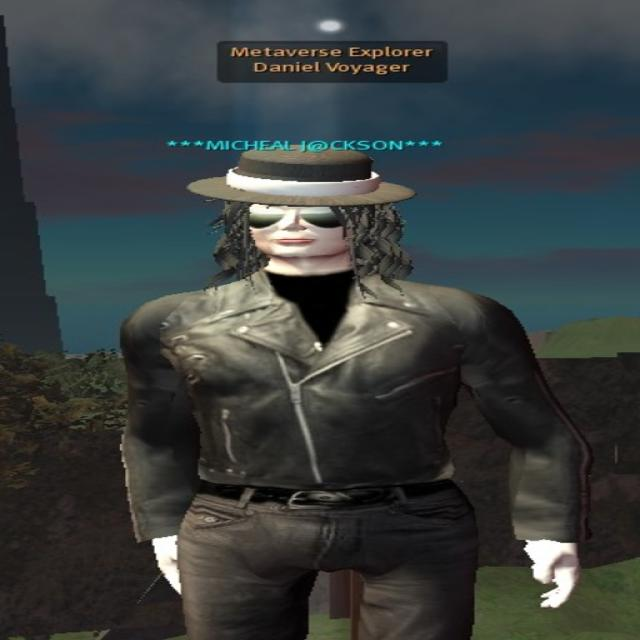Hat: (189, 140, 411, 209)
